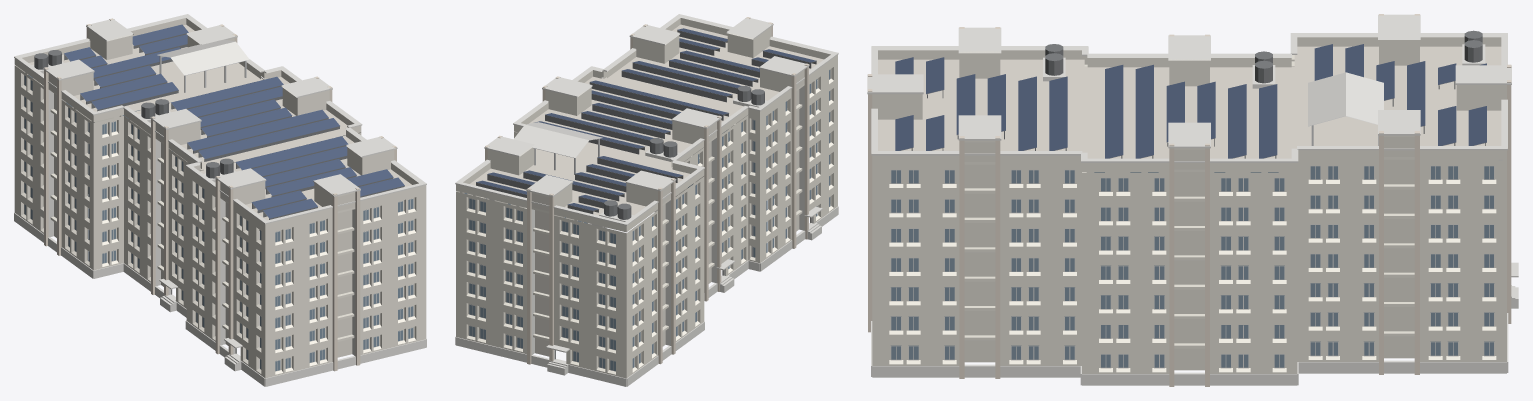
Rendered from Hostel_Chain.fbx.
The picture shows the model from 3 angles, left to right: view 1: azimuth 30°, elevation 25°; view 2: azimuth 150°, elevation 25°; view 3: azimuth 270°, elevation 25°; orthographic projection. The views are drawn at different scales.
Parts seen in each view (by area): view 1: Hostel_Chain; view 2: Hostel_Chain; view 3: Hostel_Chain.
Boxes of the visible parts, left/top/right/bottom form: Hostel_Chain: left=14, top=14, right=426, bottom=386; Hostel_Chain: left=455, top=14, right=838, bottom=386; Hostel_Chain: left=867, top=14, right=1518, bottom=386.
Bounding box in the file's own units: 32.6 × 28.94 × 68.3.
